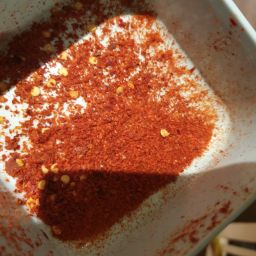Red pepper flakes: (8, 15, 256, 256), (74, 7, 184, 140), (59, 103, 165, 223), (20, 122, 102, 256), (9, 37, 81, 178), (2, 100, 80, 220), (132, 95, 228, 174)
